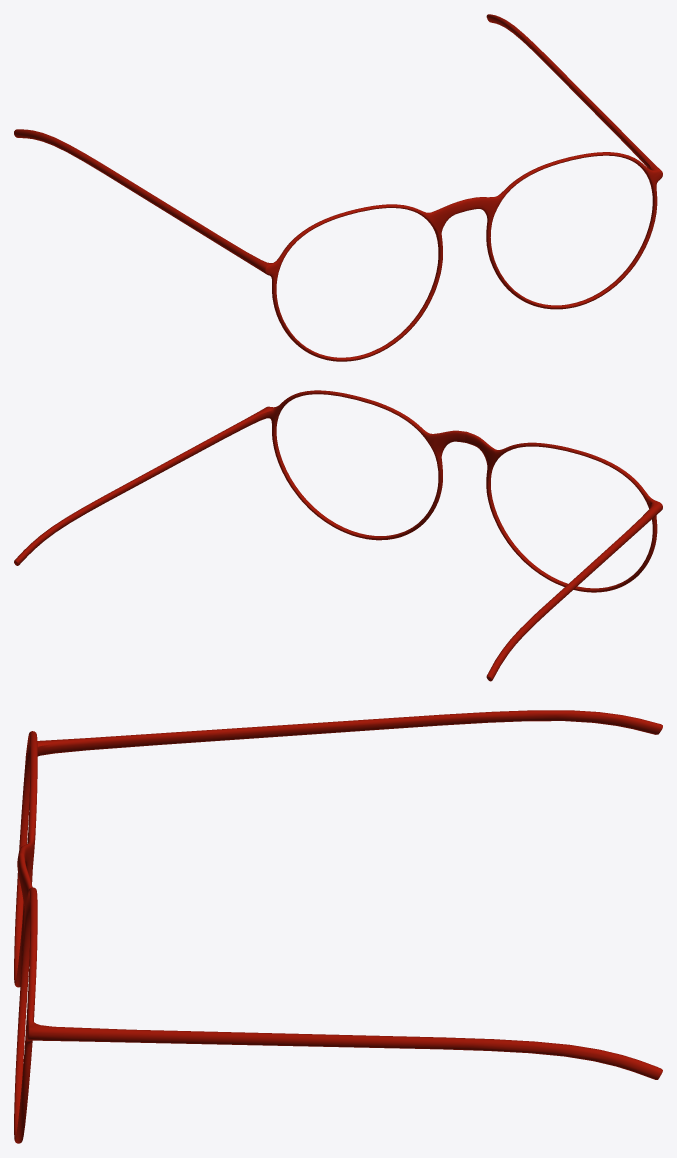
The model's file is eyewear-glasses-red-73c5235c.glb.
3 renders of one model, top to bottom at view 1: azimuth 30°, elevation 25°; view 2: azimuth 150°, elevation 25°; view 3: azimuth 270°, elevation 25°, orthographic. The views are drawn at different scales.
Parts seen in each view (by area): view 1: Geo_White_Older_Female_Glasses_Red.001; view 2: Geo_White_Older_Female_Glasses_Red.001; view 3: Geo_White_Older_Female_Glasses_Red.001.
Boxes of the visible parts, <box> form: Geo_White_Older_Female_Glasses_Red.001: <box>14,14,662,361</box>; Geo_White_Older_Female_Glasses_Red.001: <box>14,390,662,681</box>; Geo_White_Older_Female_Glasses_Red.001: <box>14,710,662,1143</box>.
Bounding box in the file's own units: 1.59 × 0.4637 × 1.25.
